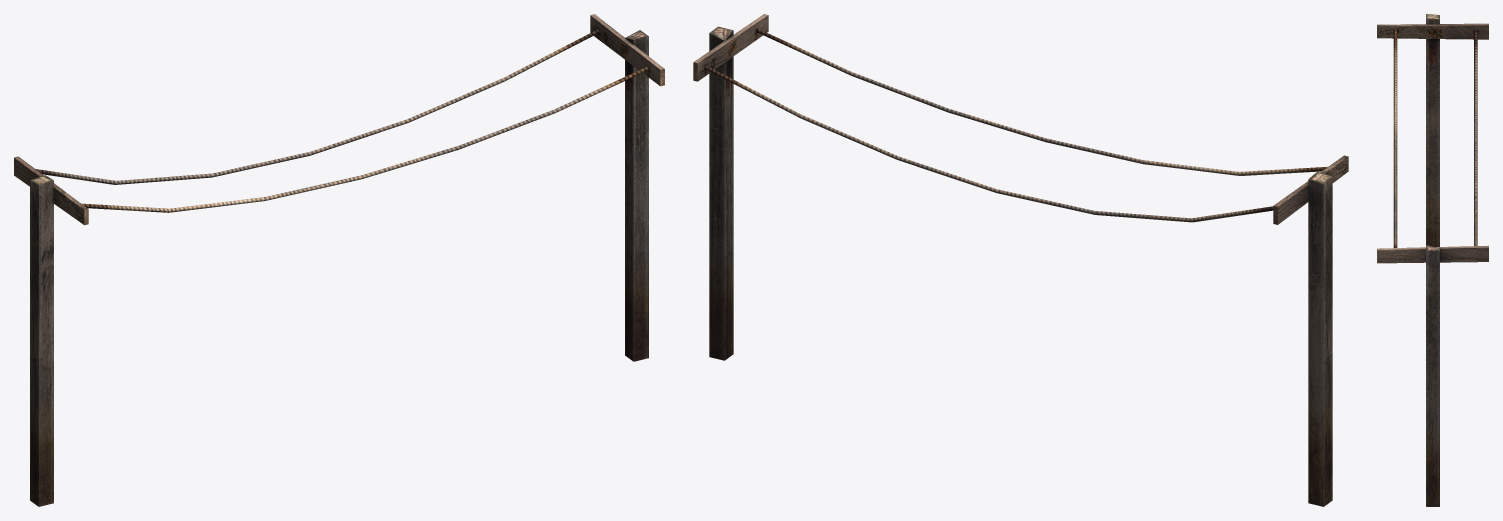
File: Clothing_Poles.fbx
3 renders of one model, left to right at view 1: azimuth 30°, elevation 25°; view 2: azimuth 150°, elevation 25°; view 3: azimuth 270°, elevation 25°, orthographic. The views are drawn at different scales.
Visible parts, largest first — view 1: Clothing_Poles, Lines; view 2: Clothing_Poles, Lines; view 3: Clothing_Poles, Lines.
Part boxes in pixels (box(x1,y1,x2,y2)): Clothing_Poles: box(14, 14, 664, 506); Lines: box(36, 29, 649, 212); Clothing_Poles: box(693, 14, 1348, 506); Lines: box(705, 28, 1327, 222); Clothing_Poles: box(1377, 14, 1488, 506); Lines: box(1393, 28, 1477, 247).
Size of the model in its own units: 8.38 by 4.24 by 1.67.
